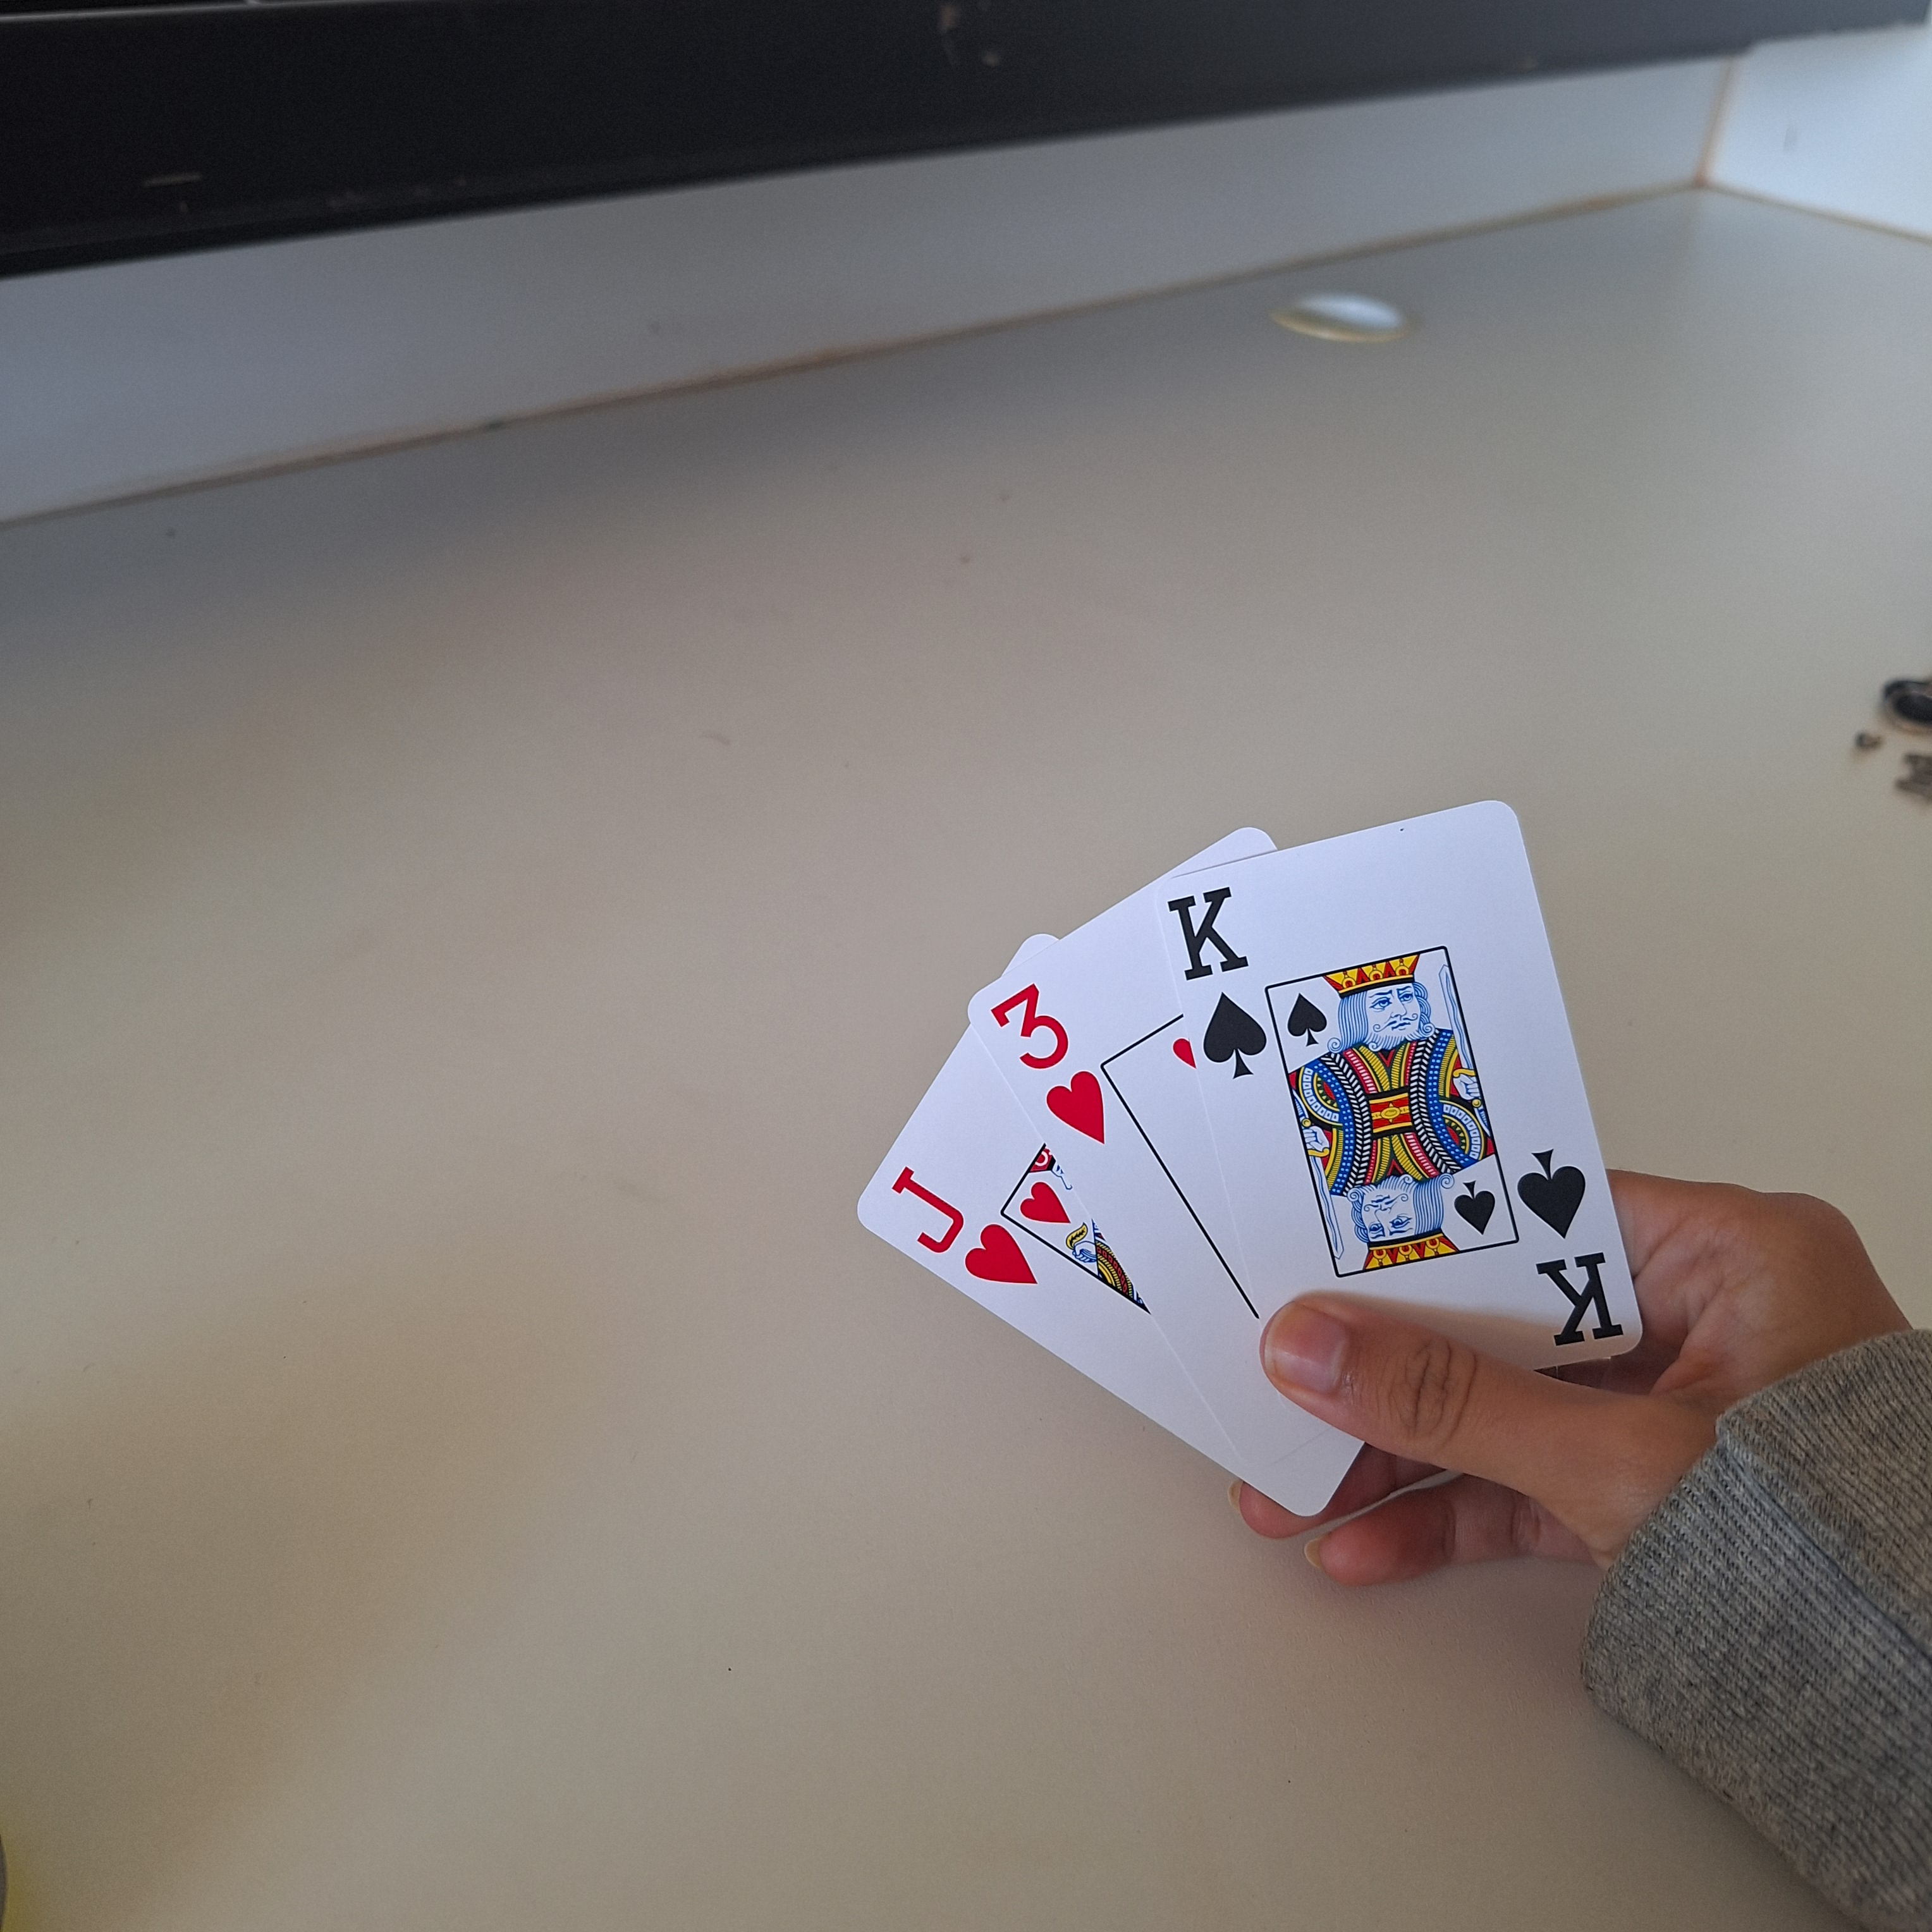3C: (978, 975, 1122, 1159)
JC: (883, 1157, 1042, 1295)
KE: (1507, 1141, 1629, 1357), (1157, 872, 1277, 1083)
